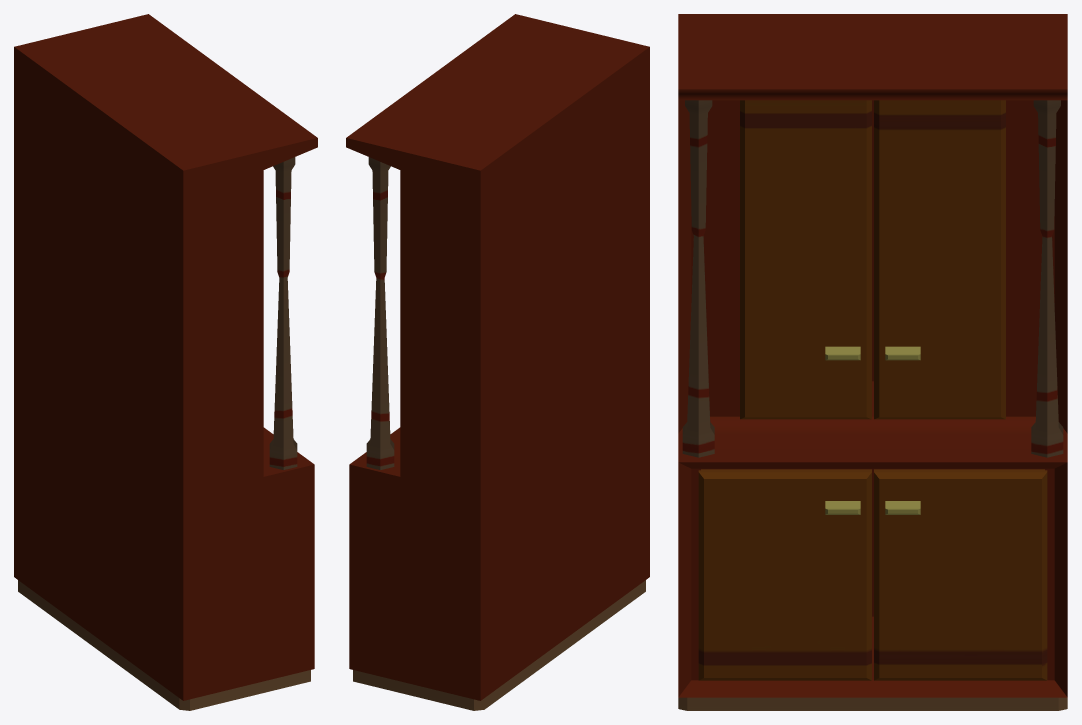
Rendered from VicCupboard.fbx.
3 views of the same model, side by side, from view 1: azimuth 30°, elevation 25°; view 2: azimuth 150°, elevation 25°; view 3: azimuth 270°, elevation 25° (orthographic). The views are drawn at different scales.
Parts seen in each view (by area): view 1: polySurface48; view 2: polySurface48; view 3: polySurface48, polySurface42, polySurface40, polySurface46, polySurface44.
Boxes of the visible parts, <box> form: polySurface48: <box>14,14,317,710</box>; polySurface48: <box>346,14,649,710</box>; polySurface48: <box>678,14,1067,710</box>; polySurface42: <box>874,100,1005,419</box>; polySurface40: <box>740,100,871,419</box>; polySurface46: <box>698,469,871,680</box>; polySurface44: <box>874,469,1047,680</box>.
Bounding box in the file's own units: 1.38 × 5.3 × 3.
Materials: 1 (1 with a texture image).
